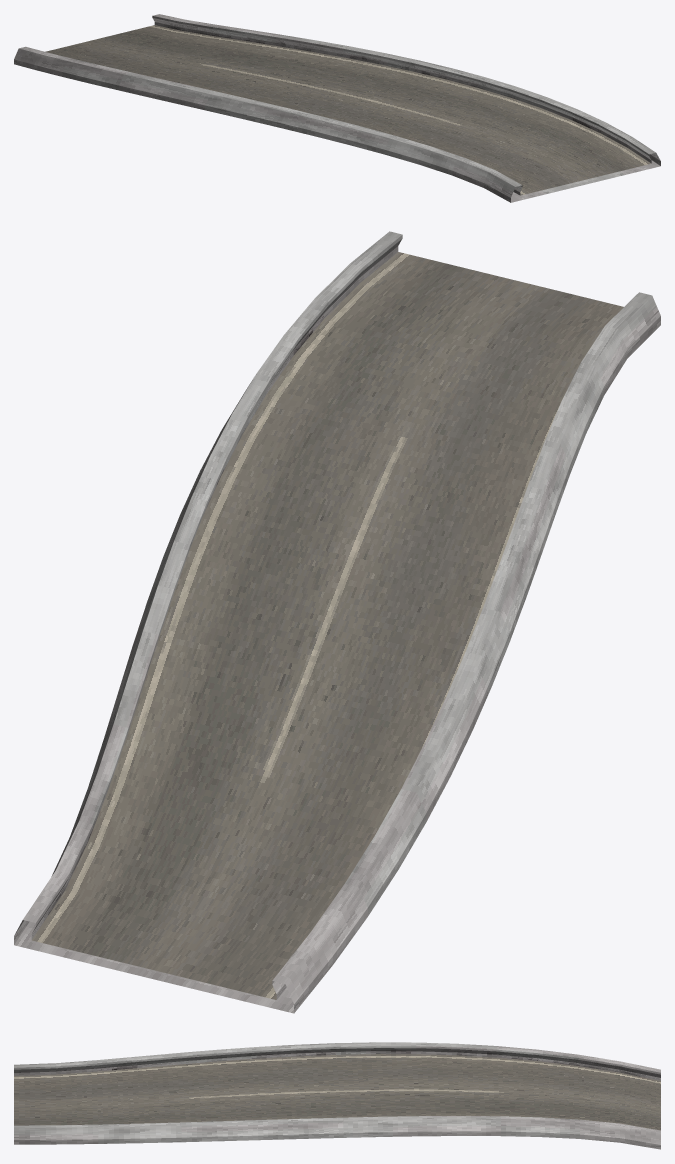
Rendered from chicane-left1x4.glb.
The picture shows the model from 3 angles, top to bottom: view 1: azimuth 30°, elevation 25°; view 2: azimuth 150°, elevation 25°; view 3: azimuth 270°, elevation 25°; orthographic projection. The views are drawn at different scales.
Visible parts, largest first — view 1: road-Chicane-Flat-BiSlopeDown-Down2-Left1-Size4; view 2: road-Chicane-Flat-BiSlopeDown-Down2-Left1-Size4; view 3: road-Chicane-Flat-BiSlopeDown-Down2-Left1-Size4.
Boxes of the visible parts, left/top/right/bottom form: road-Chicane-Flat-BiSlopeDown-Down2-Left1-Size4: left=14, top=14, right=660, bottom=202; road-Chicane-Flat-BiSlopeDown-Down2-Left1-Size4: left=14, top=231, right=660, bottom=1013; road-Chicane-Flat-BiSlopeDown-Down2-Left1-Size4: left=14, top=1042, right=660, bottom=1149.
Size of the model in its own units: 2 by 0.5938 by 4.
Materials: 2 (2 with a texture image).
